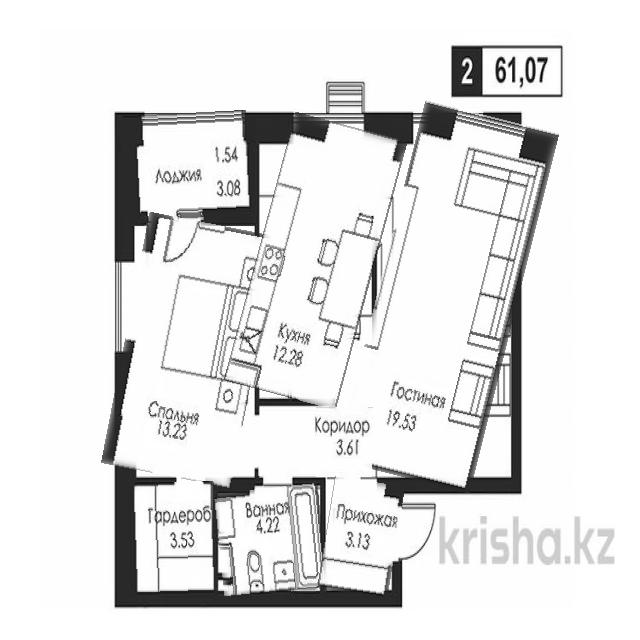balcony: (125, 112, 250, 222)
bathroom: (216, 485, 326, 595)
hallway: (321, 479, 400, 597), (259, 406, 373, 477)
kitchen: (241, 117, 391, 405)
living_room: (358, 106, 538, 487), (113, 217, 268, 483)
other: (129, 482, 217, 596)
